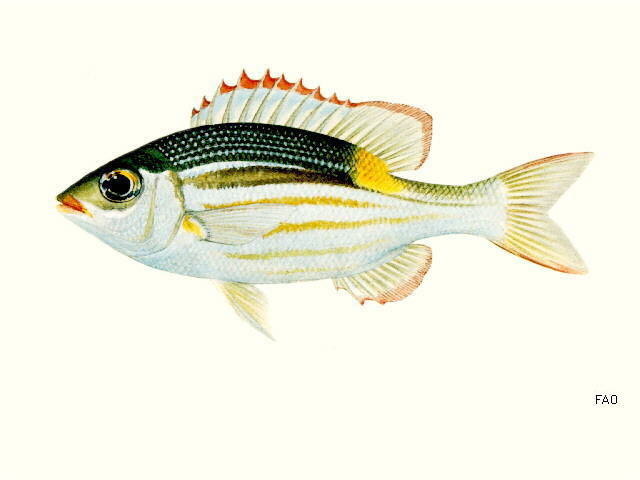fish: (55, 67, 595, 342)
